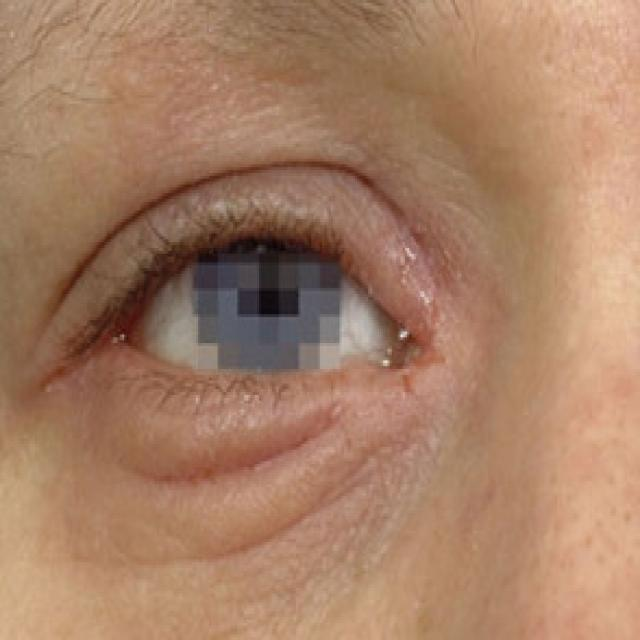Eczema Mild: (479, 295, 640, 640), (524, 47, 640, 198), (86, 20, 227, 106)
